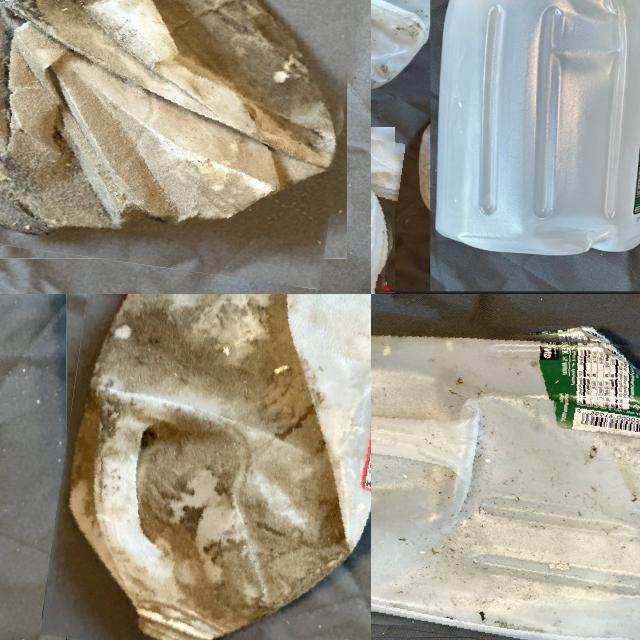milk-jug: (52, 294, 371, 640), (0, 0, 358, 273), (371, 308, 640, 640), (434, 0, 640, 248)
